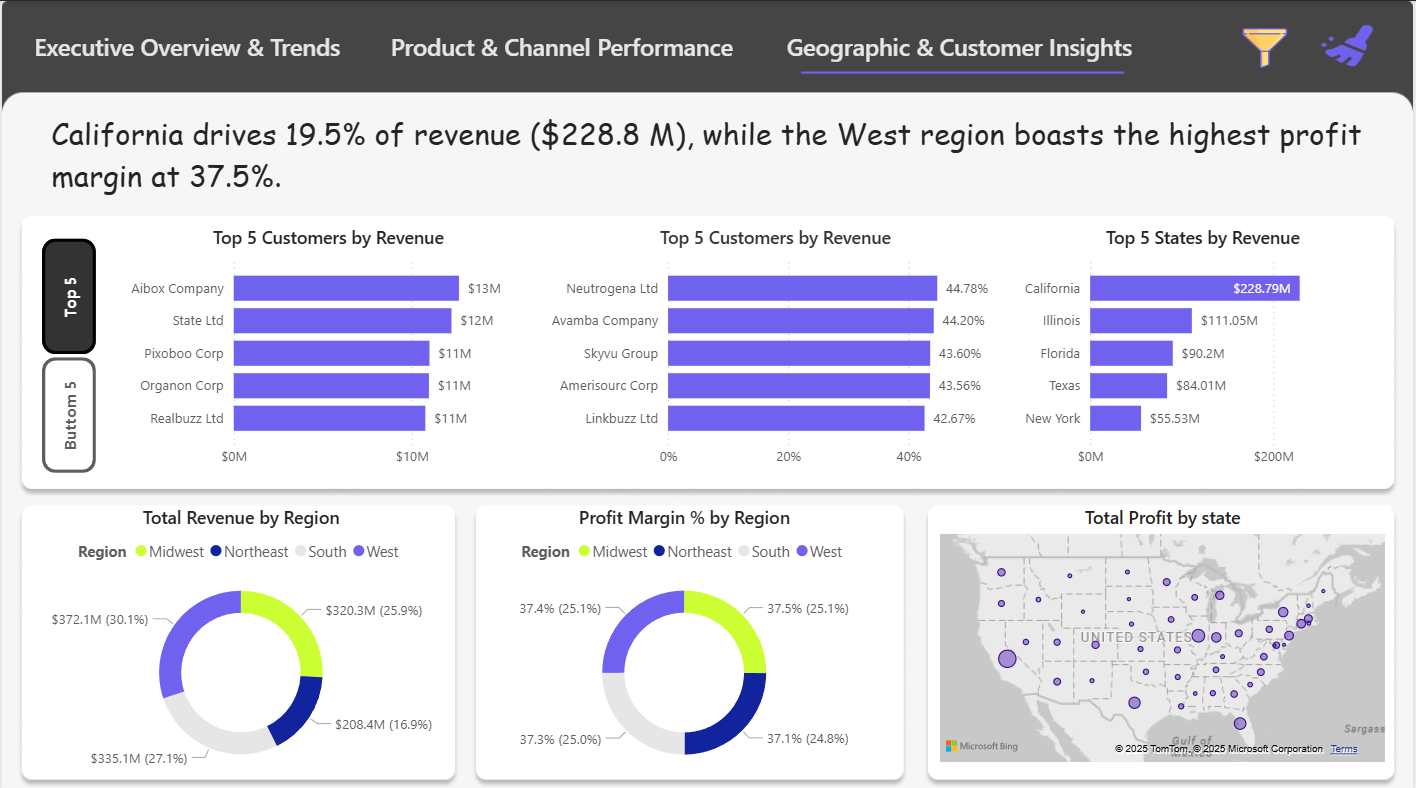

What the dashboard file says about the page in this screenshot:
{"tool":"powerbi","page":{"name":"Geographic & Customer Insights","canvas":[1280,720],"ordinal":2},"visuals":[{"type":"barChart","title":"Top 5 States by Revenue","fields":{"Category":["Sales_data.state_name"],"Y":["Measures_.Total Revenue"]},"box":[917,203.4,344.1,228.8],"z":0,"group":"g2"},{"type":"actionButton","box":[37,215,49,105],"z":0,"group":"g1"},{"type":"donutChart","title":"Total Revenue by Region","fields":{"Category":["Sales_data.us_region"],"Y":["Measures_.Total Revenue"]},"box":[19.8,457,395.3,253.5],"z":0},{"type":"barChart","title":"Top 5 Customers by Revenue","fields":{"Category":["Sales_data.customer_name"],"Y":["Measures_.Profit Margin %"]},"box":[486.5,203.4,430.5,228.8],"z":1000,"group":"g2"},{"type":"actionButton","box":[36.7,323.3,49,105],"z":1000,"group":"g1"},{"type":"donutChart","title":"Profit Margin % by Region","fields":{"Category":["Sales_data.us_region"],"Y":["Measures_.Profit Margin %"]},"box":[415.1,457,408.1,253.5],"z":1000},{"type":"actionButton","box":[337.2,14.1,342.3,55.1],"z":2000},{"type":"barChart","title":"Top 5 Customers by Revenue","fields":{"Category":["Sales_data.customer_name"],"Y":["Measures_.Total Revenue"]},"box":[105.1,203.4,381.4,228.8],"z":2000,"group":"g2"},{"type":"actionButton","box":[9,14.1,317.9,55.1],"z":3000},{"type":"actionButton","box":[702.6,14.1,333.3,55.1],"z":4000},{"type":"group","id":"g1","title":"top 5 button","box":[36.7,215,48.3,213.3],"z":6000},{"type":"map","fields":{"Category":["Sales_data.state"],"Size":["Measures_.Total Profit"]},"box":[846.5,457,414,238.4],"z":7000},{"type":"group","id":"g2","title":"top 5","box":[105.1,203.4,1155.9,228.8],"z":9000},{"type":"textbox","title":"Top Text","box":[39.5,96.5,1223.3,93],"z":11000},{"type":"actionButton","box":[1188,14,70,55],"z":12000},{"type":"actionButton","box":[1120,21,53,42],"z":13000}]}

Visuals, with their boxes in screenshot pixels (x1, y1, x2, y2), scaled from the page's 1280x720 canvas onto the 1416x788 screenshot:
"Top 5 States by Revenue" barChart: detection(1014, 223, 1395, 473)
actionButton: detection(41, 235, 95, 350)
"Total Revenue by Region" donutChart: detection(22, 500, 459, 778)
"Top 5 Customers by Revenue" barChart: detection(538, 223, 1014, 473)
actionButton: detection(41, 354, 95, 469)
"Profit Margin % by Region" donutChart: detection(459, 500, 911, 778)
actionButton: detection(373, 15, 752, 76)
"Top 5 Customers by Revenue" barChart: detection(116, 223, 538, 473)
actionButton: detection(10, 15, 362, 76)
actionButton: detection(777, 15, 1146, 76)
"top 5 button" group: detection(41, 235, 94, 469)
map - Sales_data.state x Measures_.Total Profit: detection(936, 500, 1394, 761)
"top 5" group: detection(116, 223, 1395, 473)
"Top Text" textbox: detection(44, 106, 1397, 207)
actionButton: detection(1314, 15, 1392, 76)
actionButton: detection(1239, 23, 1298, 69)
